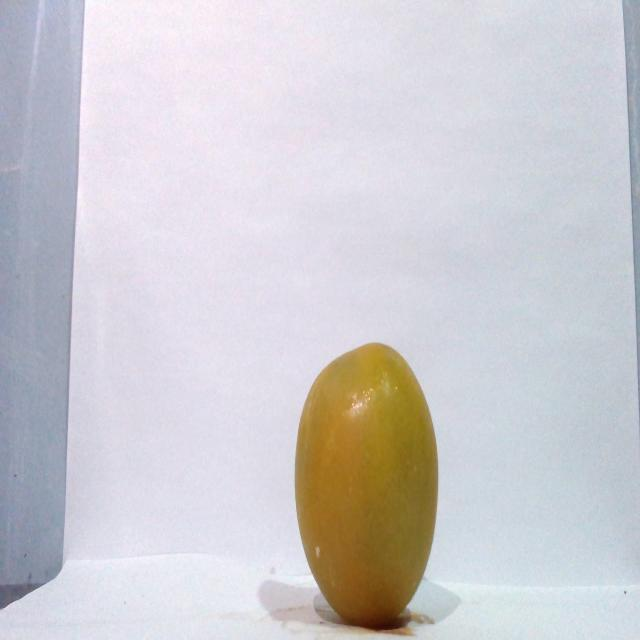Green: (292, 340, 439, 628)
